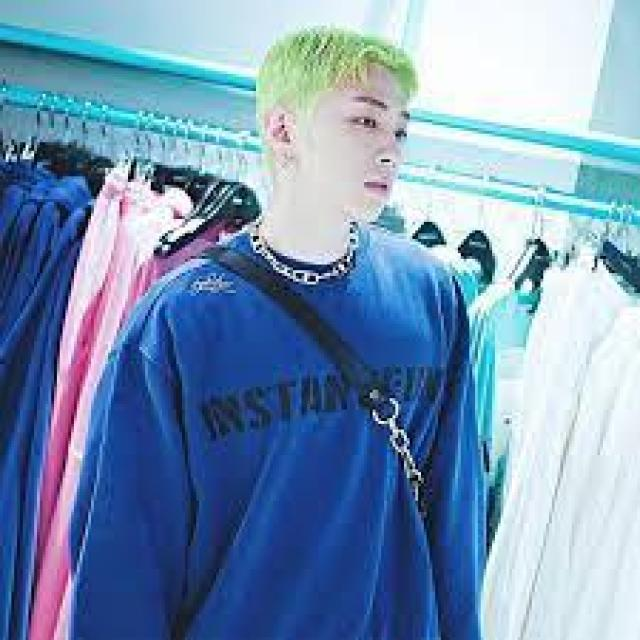sweater: (70, 230, 508, 640)
